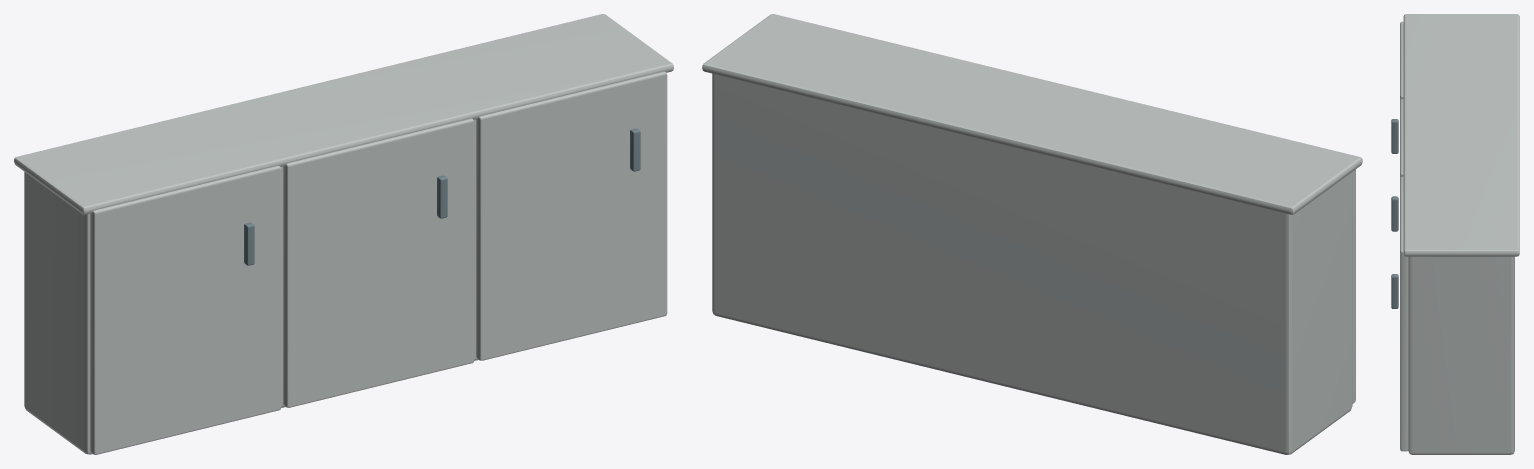
The model's file is wall-cabinets.glb.
The picture shows the model from 3 angles, left to right: view 1: azimuth 30°, elevation 25°; view 2: azimuth 150°, elevation 25°; view 3: azimuth 270°, elevation 25°; orthographic projection. The views are drawn at different scales.
Visible parts, largest first — view 1: upper_cabinet_door_0, upper_cabinet_door_2, upper_cabinet_door_1, cornice, upper_cabinet_carcass; view 2: upper_cabinet_carcass, cornice, upper_cabinet_door_0; view 3: cornice, upper_cabinet_carcass, upper_cabinet_door_2, upper_cabinet_door_0, upper_cabinet_door_1, upper_cabinet_pull_1, upper_cabinet_pull_0, upper_cabinet_pull_2.
Part boxes in pixels (x1,y1,x2,y2): upper_cabinet_door_0: [90, 165, 281, 454]; upper_cabinet_door_2: [476, 71, 667, 360]; upper_cabinet_door_1: [283, 118, 474, 407]; cornice: [14, 14, 673, 214]; upper_cabinet_carcass: [24, 119, 478, 454]; upper_cabinet_carcass: [712, 73, 1352, 454]; cornice: [702, 14, 1362, 214]; upper_cabinet_door_0: [1352, 169, 1355, 403]; cornice: [1403, 14, 1519, 256]; upper_cabinet_carcass: [1408, 256, 1514, 454]; upper_cabinet_door_2: [1400, 176, 1408, 451]; upper_cabinet_door_0: [1400, 21, 1403, 100]; upper_cabinet_door_1: [1400, 99, 1403, 178]; upper_cabinet_pull_1: [1391, 196, 1398, 231]; upper_cabinet_pull_0: [1391, 119, 1398, 153]; upper_cabinet_pull_2: [1391, 274, 1398, 308].
Bounding box in the file's own units: 1.84 × 0.7525 × 0.42.
